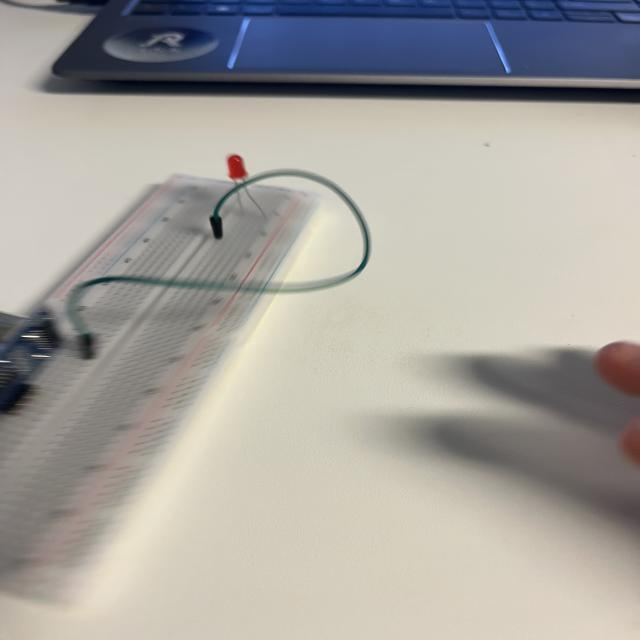BreadBoard: (13, 168, 323, 603)
REDLed: (226, 154, 279, 217)
